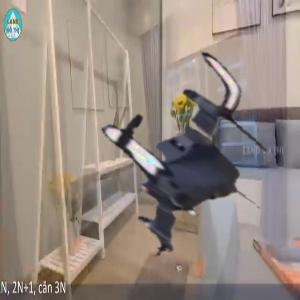drone: (78, 51, 285, 258)
